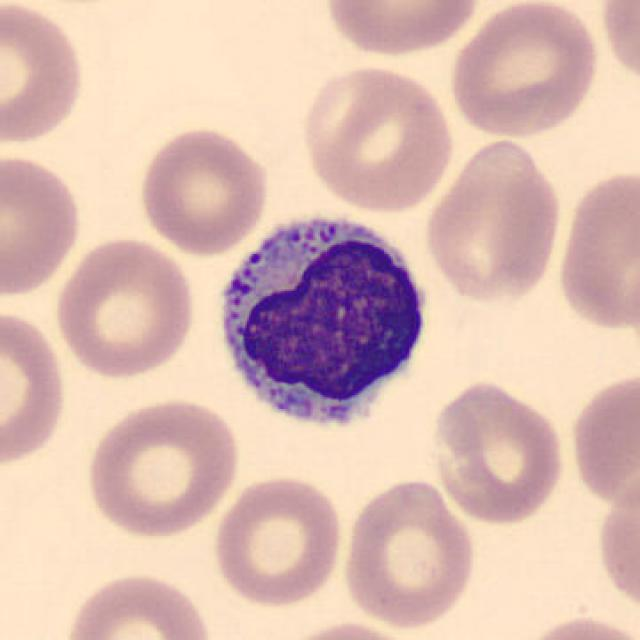Lymphocyte: (205, 201, 439, 446)
RBC: (420, 134, 566, 309), (297, 62, 457, 215), (82, 393, 244, 541), (444, 0, 604, 141), (338, 474, 480, 630), (52, 234, 199, 381), (427, 376, 569, 527), (208, 471, 347, 610), (135, 124, 272, 258), (553, 164, 638, 337), (0, 0, 89, 148), (0, 150, 85, 300), (0, 305, 71, 473), (59, 567, 217, 640), (566, 365, 638, 513), (320, 0, 485, 58), (592, 460, 640, 622), (595, 0, 640, 91), (512, 612, 638, 640), (272, 619, 423, 640)
